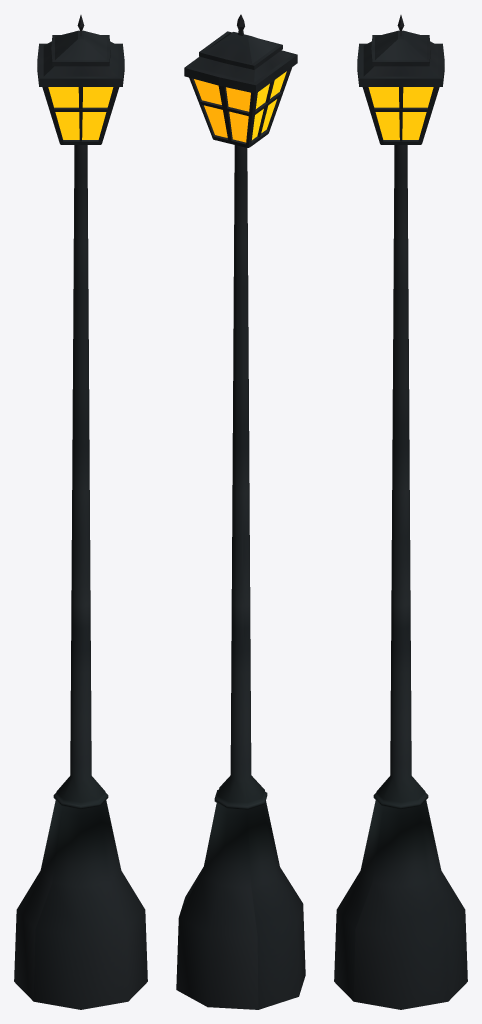
Rendered from Lampara.fbx.
The picture shows the model from 3 angles, left to right: view 1: azimuth 90°, elevation 25°; view 2: azimuth 150°, elevation 25°; view 3: azimuth 270°, elevation 25°; orthographic projection.
Visible parts, largest first — view 1: opste.008; view 2: opste.008; view 3: opste.008.
Part boxes in pixels (x1,y1,x2,y2): opste.008: (14, 15, 147, 1009); opste.008: (176, 14, 305, 1009); opste.008: (334, 15, 467, 1009).
Bounding box in the file's own units: 74.84 × 597 × 74.84.
2 materials, 1 textured.
